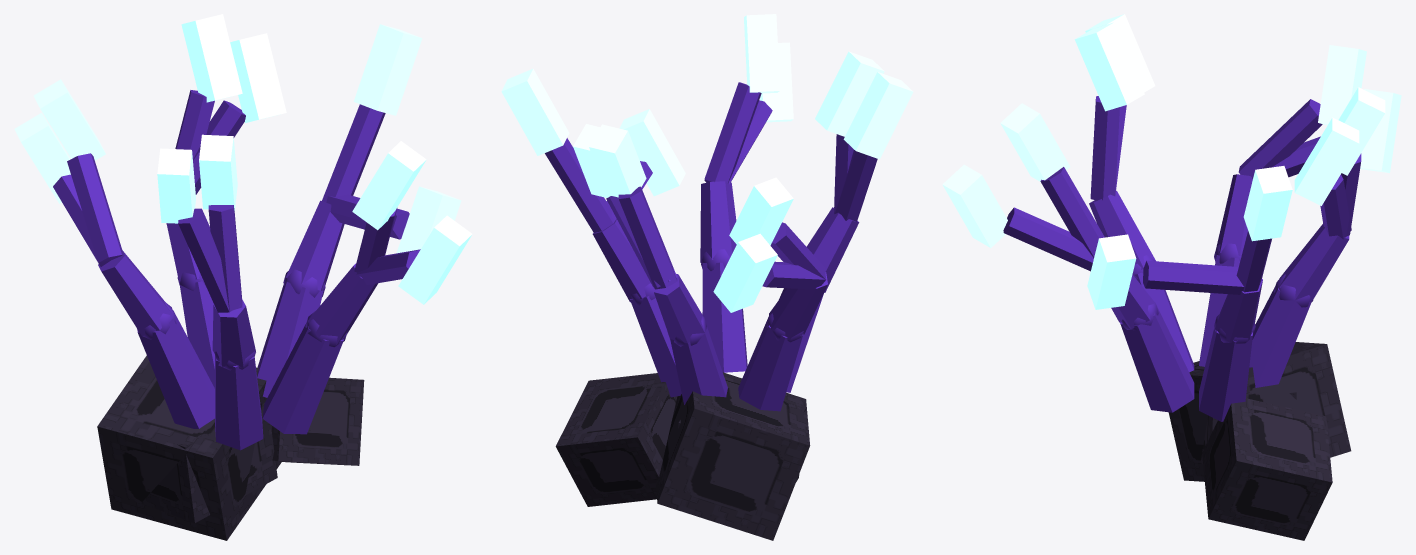
Rendered from StarCrystalCoral.fbx.
3 views of the same model, side by side, from view 1: azimuth 30°, elevation 25°; view 2: azimuth 150°, elevation 25°; view 3: azimuth 270°, elevation 25° (orthographic). The views are drawn at different scales.
Parts seen in each view (by area): view 1: StarCrystalCoral, StarCrystalCoral_Glow; view 2: StarCrystalCoral, StarCrystalCoral_Glow; view 3: StarCrystalCoral, StarCrystalCoral_Glow.
Boxes of the visible parts, x1=… form: StarCrystalCoral: x1=53, y1=90, x2=420, y2=540; StarCrystalCoral_Glow: x1=14, y1=14, x2=472, y2=304; StarCrystalCoral: x1=545, y1=82, x2=877, y2=540; StarCrystalCoral_Glow: x1=501, y1=14, x2=913, y2=312; StarCrystalCoral: x1=1003, y1=96, x2=1361, y2=540; StarCrystalCoral_Glow: x1=942, y1=14, x2=1401, y2=309.
Size of the model in its own units: 441 by 541 by 525.
2 materials, 1 textured.
